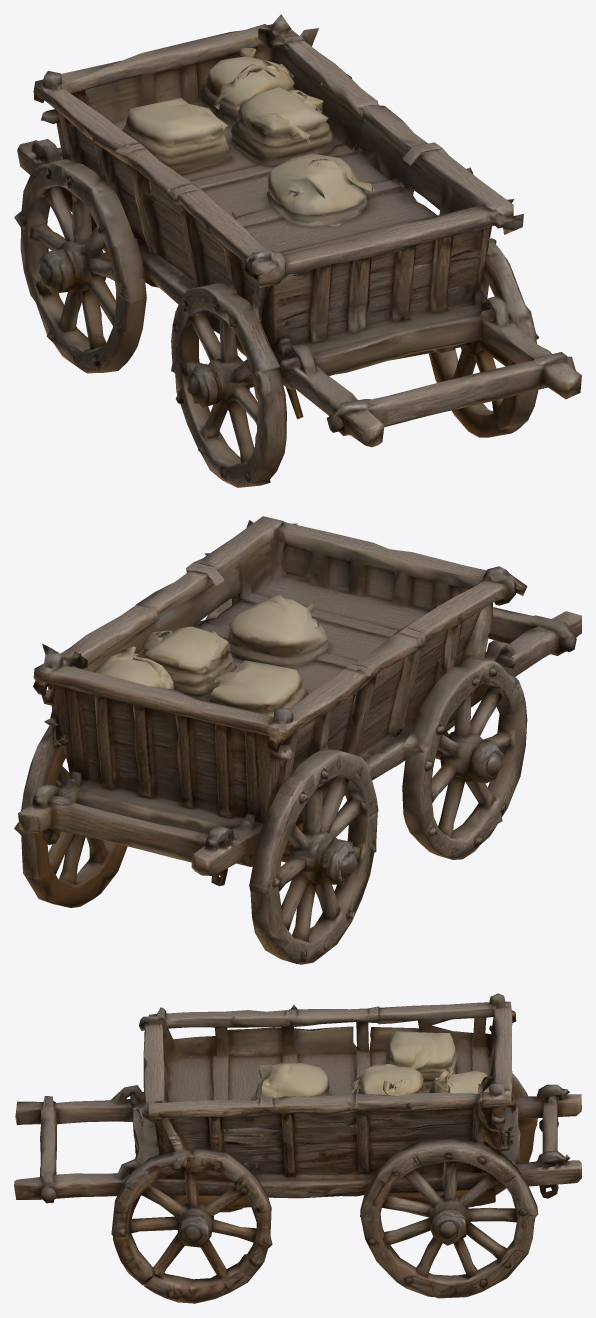
The model's file is v-cart.glb.
3 views of the same model, one above another, from view 1: azimuth 30°, elevation 25°; view 2: azimuth 150°, elevation 25°; view 3: azimuth 270°, elevation 25° (orthographic). The views are drawn at different scales.
Visible parts, largest first — view 1: tripo_node_aa5e1d32-a117-43b3-a68c-9436ac70bc4a; view 2: tripo_node_aa5e1d32-a117-43b3-a68c-9436ac70bc4a; view 3: tripo_node_aa5e1d32-a117-43b3-a68c-9436ac70bc4a.
Part boxes in pixels (x1,y1,x2,y2): tripo_node_aa5e1d32-a117-43b3-a68c-9436ac70bc4a: (14,14,581,487); tripo_node_aa5e1d32-a117-43b3-a68c-9436ac70bc4a: (14,516,581,964); tripo_node_aa5e1d32-a117-43b3-a68c-9436ac70bc4a: (14,993,581,1303).
Bounding box in the file's own units: 0.5076 × 0.4169 × 1.
1 material, 1 textured.
